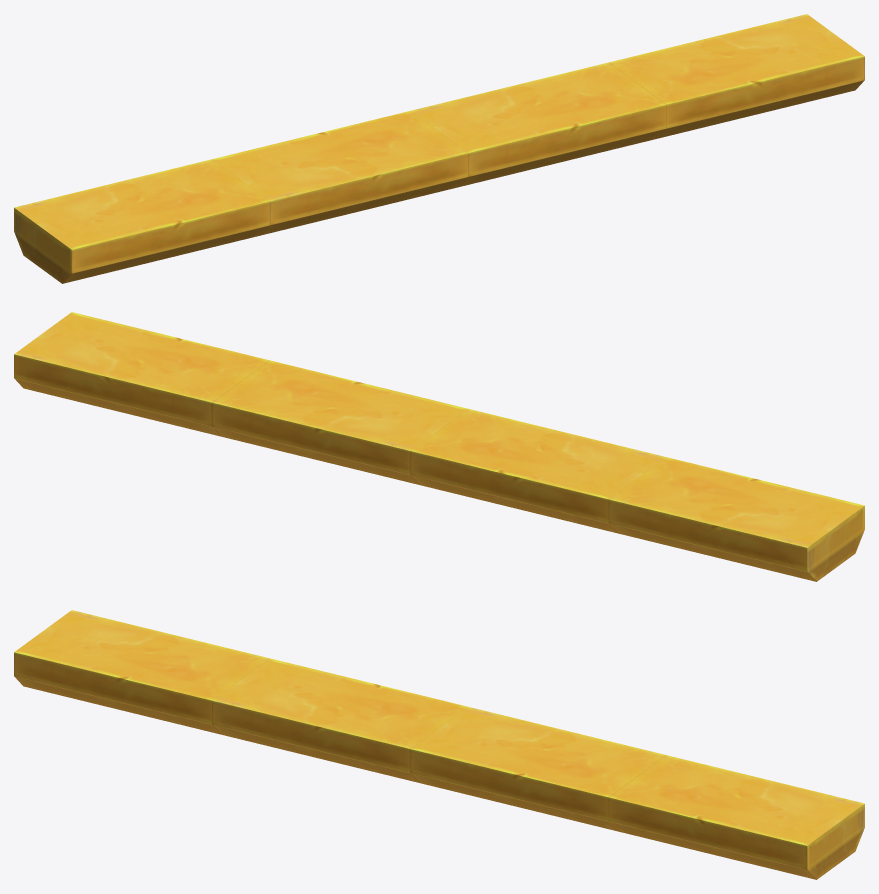
File: G_fushou002.fbx
3 views of the same model, one above another, from view 1: azimuth 30°, elevation 25°; view 2: azimuth 150°, elevation 25°; view 3: azimuth 330°, elevation 25° (orthographic).
Parts seen in each view (by area): view 1: G_fushou002; view 2: G_fushou002; view 3: G_fushou002.
Part boxes in pixels (left/top/right/bottom): G_fushou002: left=14, top=14, right=864, bottom=283; G_fushou002: left=14, top=312, right=864, bottom=581; G_fushou002: left=14, top=610, right=864, bottom=879.
Bounding box in the file's own units: 175 × 8.67 × 22.14.
